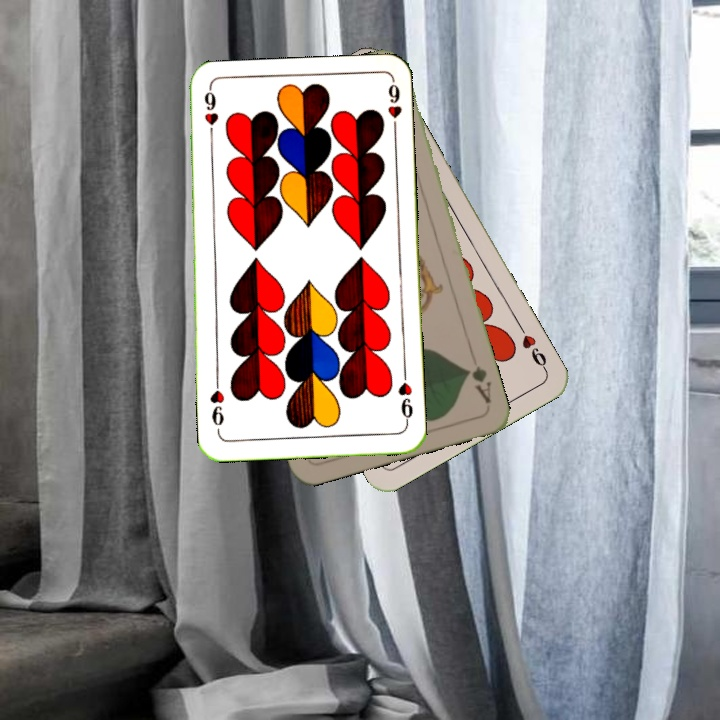GA: (461, 361, 494, 406)
H9: (514, 320, 550, 374), (394, 368, 416, 427), (200, 86, 219, 145)
